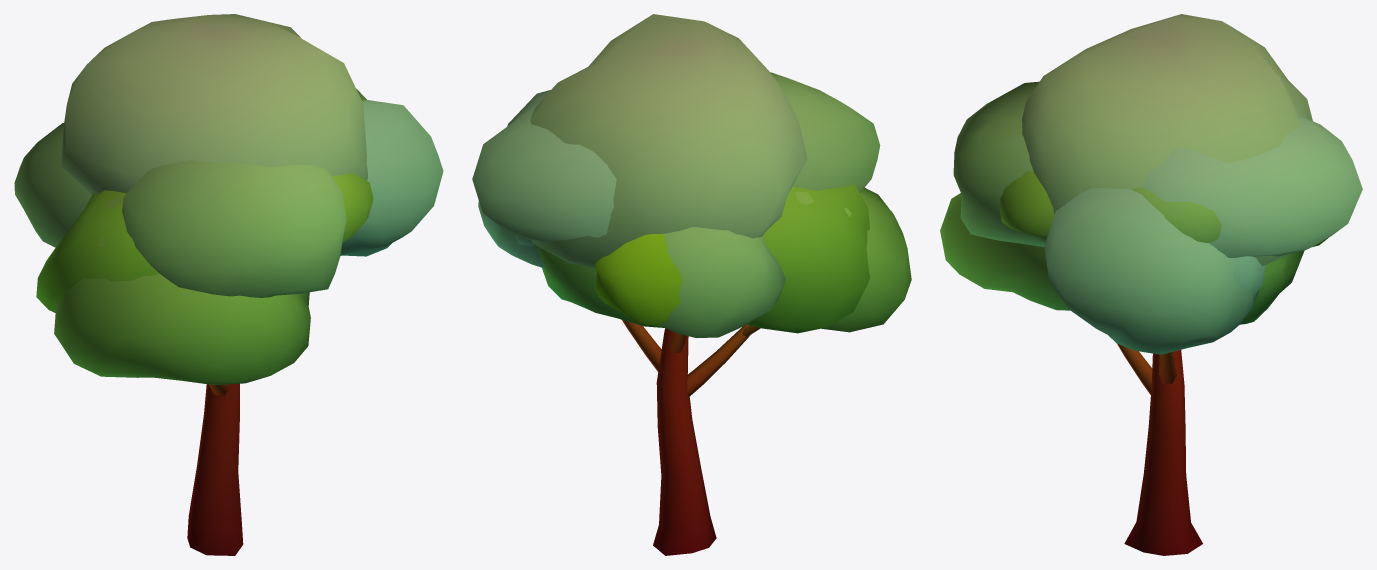
Rendered from broadleaf_a.glb.
The picture shows the model from 3 angles, left to right: view 1: azimuth 30°, elevation 25°; view 2: azimuth 150°, elevation 25°; view 3: azimuth 270°, elevation 25°; orthographic projection. The views are drawn at different scales.
Parts seen in each view (by area): view 1: broadleaf_a_LOD0; view 2: broadleaf_a_LOD0; view 3: broadleaf_a_LOD0.
Boxes of the visible parts, box(x1,y1,x2,y2) form: broadleaf_a_LOD0: box(14, 14, 443, 555); broadleaf_a_LOD0: box(472, 14, 911, 555); broadleaf_a_LOD0: box(940, 14, 1362, 555).
Size of what is drawn, in the model's own units: 6.51 by 8.18 by 6.18.
